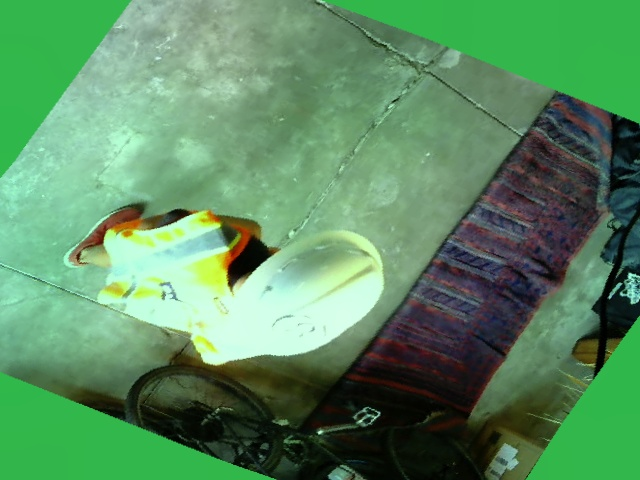eight: (262, 306, 339, 359)
